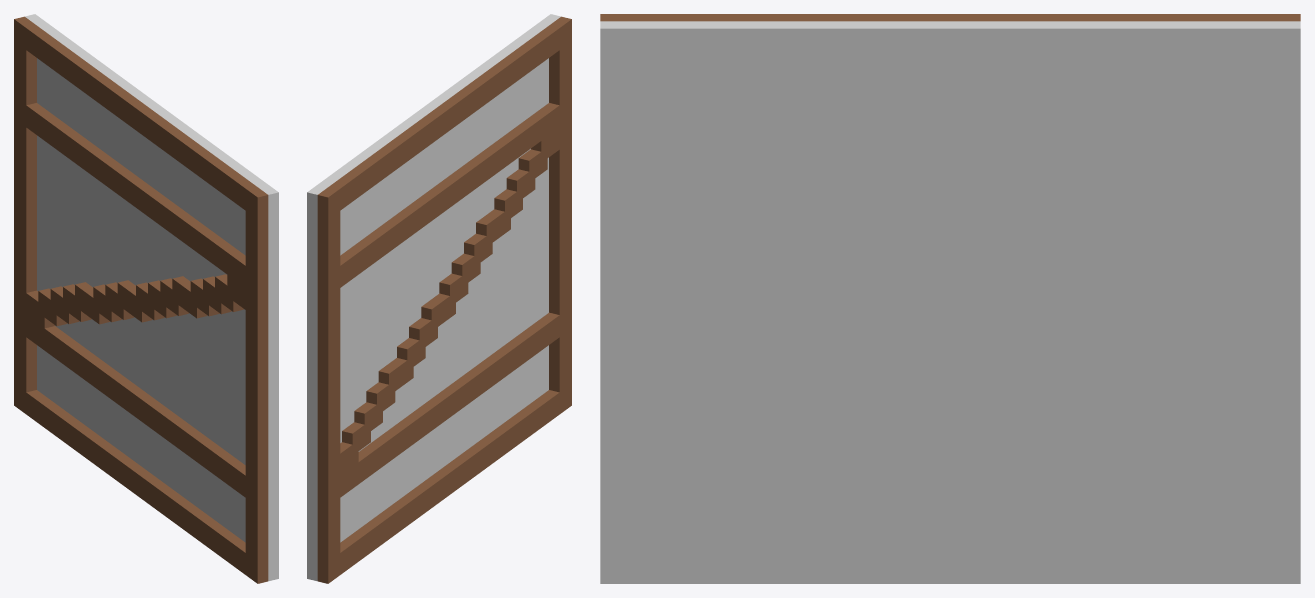
Rendered from wall.obj.
3 renders of one model, left to right at view 1: azimuth 30°, elevation 25°; view 2: azimuth 150°, elevation 25°; view 3: azimuth 270°, elevation 25°, orthographic. The views are drawn at different scales.
Size of the model in its own units: 0.2 by 3.5 by 4.
1 material, 1 textured.
